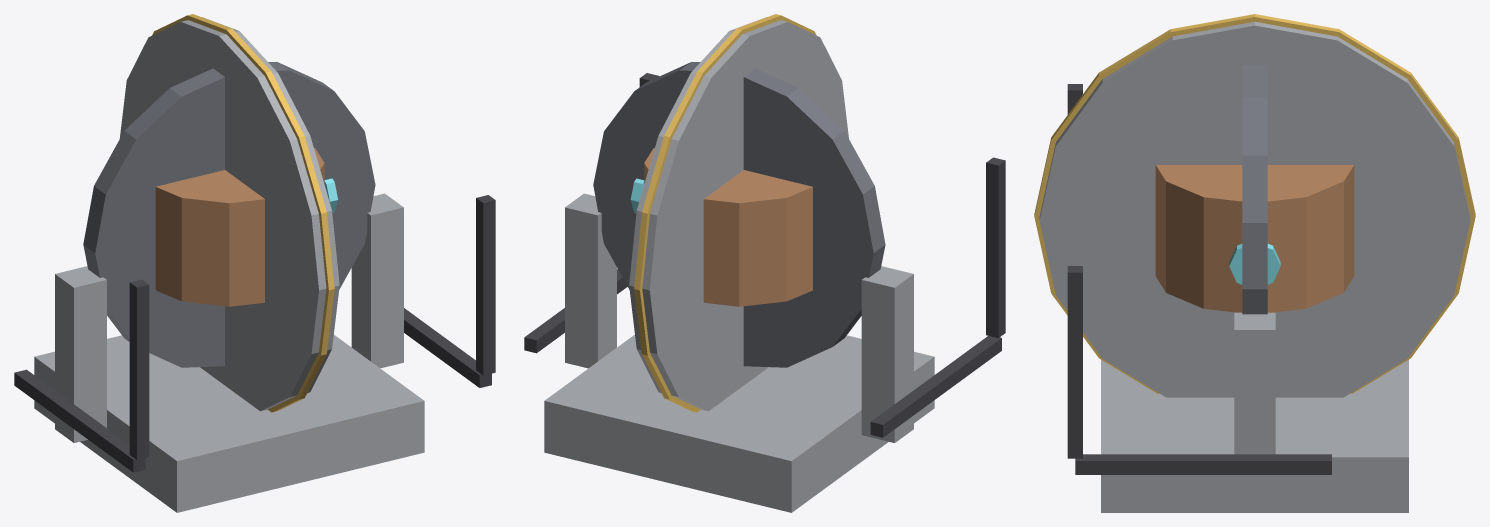
The model's file is core_gyro.glb.
3 views of the same model, side by side, from view 1: azimuth 30°, elevation 25°; view 2: azimuth 150°, elevation 25°; view 3: azimuth 270°, elevation 25° (orthographic). The views are drawn at different scales.
Size of the model in its own units: 0.87 by 0.93 by 0.86.
